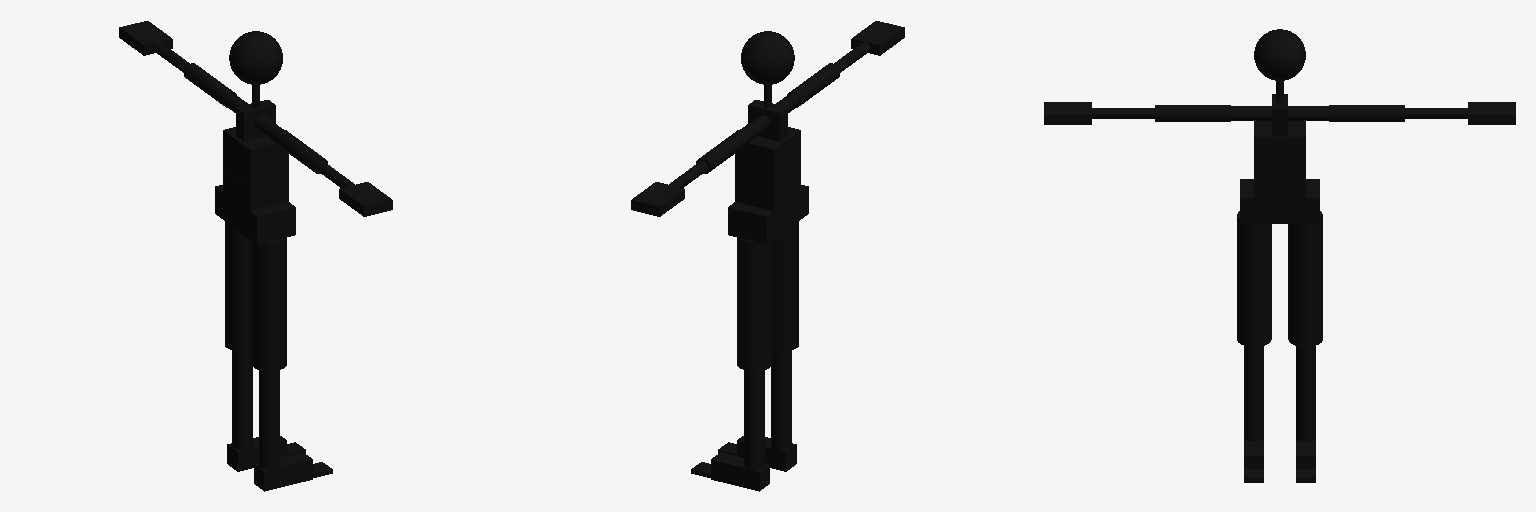
--- Facts derived from the render (not from the file) ---
Views: 3 orthographic renders of the robot side by side, from view 1: azimuth 30°, elevation 25°; view 2: azimuth 150°, elevation 25°; view 3: azimuth 270°, elevation 25°.
Model XSensStyleModel_template with 51 links and 50 joints (48 revolute, 2 fixed), rooted at Pelvis, posed every joint at zero.
Links seen in each view (by area): view 1: RightUpperLeg, LeftUpperLeg, Pelvis, Head, RightLowerLeg, LeftLowerLeg, T12, RightFoot, L5, L3, RightHand, LeftHand (+4 smaller); view 2: LeftUpperLeg, RightUpperLeg, Pelvis, Head, LeftLowerLeg, RightLowerLeg, T12, LeftFoot, L5, L3, LeftHand, RightHand (+4 smaller); view 3: RightUpperLeg, LeftUpperLeg, Pelvis, Head, RightLowerLeg, LeftLowerLeg, T12, RightUpperArm, LeftUpperArm, RightHand, LeftHand, L5 (+8 smaller).
Boxes of the visible links, <box> form: RightUpperLeg: <box>251,238,286,370</box>; LeftUpperLeg: <box>225,222,250,351</box>; Pelvis: <box>215,185,295,244</box>; Head: <box>229,31,282,84</box>; RightLowerLeg: <box>259,370,279,469</box>; LeftLowerLeg: <box>232,351,252,449</box>; T12: <box>223,127,288,168</box>; RightFoot: <box>254,452,312,491</box>; L5: <box>223,170,288,210</box>; L3: <box>223,150,288,188</box>; RightHand: <box>339,182,392,216</box>; LeftHand: <box>119,21,172,55</box>; LeftUpperLeg: <box>737,238,772,370</box>; RightUpperLeg: <box>773,222,798,351</box>; Pelvis: <box>728,185,808,244</box>; Head: <box>741,31,794,84</box>; LeftLowerLeg: <box>744,370,764,469</box>; RightLowerLeg: <box>771,351,791,449</box>; T12: <box>735,127,800,168</box>; LeftFoot: <box>711,452,769,491</box>; L5: <box>735,170,800,210</box>; L3: <box>735,150,800,188</box>; LeftHand: <box>631,182,684,216</box>; RightHand: <box>851,21,904,55</box>; RightUpperLeg: <box>1237,211,1271,346</box>; LeftUpperLeg: <box>1288,211,1322,346</box>; Pelvis: <box>1240,179,1319,223</box>; Head: <box>1254,29,1305,80</box>; RightLowerLeg: <box>1244,346,1263,441</box>; LeftLowerLeg: <box>1296,346,1315,441</box>; T12: <box>1254,121,1305,156</box>; RightUpperArm: <box>1155,105,1230,121</box>; LeftUpperArm: <box>1329,105,1404,121</box>; RightHand: <box>1044,102,1091,124</box>; LeftHand: <box>1468,102,1515,124</box>; L5: <box>1254,177,1305,197</box>.
Bounding box of the posed robot: 0.346 × 1.8 × 1.8 m (x, y, z).
Geometry: primitives only (box / cylinder / sphere), no mesh files.

URDF robot description (XSensStyleModel_template):
<!--URDF MODEL 48 DoFs-->

<robot name="XSensStyleModel_template">

<material name="color">
    <color rgba="0.1 0.1 0.1 1"/>
</material>

<!--To open this model with Gazebo replace the null masses, inertias and dimensions of the 'fake links f1 and f2'-->
    <!--LINKS-->
	<!--Link base (1)-->
	<link name="Pelvis">
        <inertial>
            <mass value="5.696"/>
			<!--COM origin wrt pHipOrigin-->
            <origin xyz="0           0    0.059167" rpy="0 0 0" />
            <inertia ixx="0.050919" iyy="0.019195" izz="0.058056" ixy="0" ixz="0" iyz="0"/>
        </inertial>

        <visual>
			<!--box origin wrt pHipOrigin-->
            <origin xyz="0           0    0.059167" rpy="0 0 0" />
            <geometry>
                <box size="0.16655     0.30753      0.1127"/>
            </geometry>
            <material name="color"/>
        </visual>

        <collision>
			<!--box origin wrt pHipOrigin-->
            <origin xyz="0           0    0.059167" rpy="0 0 0" />
            <geometry>
                <box size="0.16655     0.30753      0.1127"/>
            </geometry>
        </collision>

    </link>
    <!--Chain from (2) to (7)-->
	<link name="L5_f1">
        <inertial>
            <mass value="0"/>
            <origin xyz="0 0 0" rpy="0 0 0" />
            <inertia ixx="0" iyy="0" izz="0" ixy="0" ixz="0" iyz="0"/>
        </inertial>
    </link>
	<link name="L5">
        <inertial>
            <mass value="7.2624"/>
			<!--COM origin wrt jL5S1-->
            <origin xyz="0           0    0.044881" rpy="0 0 0" />
            <inertia ixx="0.02831" iyy="0.021663" izz="0.040221" ixy="0" ixz="0" iyz="0"/>
        </inertial>

        <visual>
			<!--box origin origin wrt jL5S1-->
            <origin xyz="0           0    0.044881" rpy="0 0 0" />
            <geometry>
                <box size="0.16655     0.19678    0.089762"/>
            </geometry>
            <material name="color"/>
        </visual>

        <collision>
			<!--box origin origin wrt jL5S1-->
            <origin xyz="0           0    0.044881" rpy="0 0 0" />
            <geometry>
                <box size="0.16655     0.19678    0.089762"/>
            </geometry>
        </collision>
    </link>
	<link name="L3_f1">
        <inertial>
            <mass value="0"/>
            <origin xyz="0 0 0" rpy="0 0 0" />
            <inertia ixx="0" iyy="0" izz="0" ixy="0" ixz="0" iyz="0"/>
        </inertial>
    </link>
	<link name="L3">
        <inertial>
            <mass value="7.2624"/>
			<!--COM origin wrt jL4L3-->
            <origin xyz="0           0    0.040536" rpy="0 0 0" />
            <inertia ixx="0.027412" iyy="0.020764" izz="0.040221" ixy="0" ixz="0" iyz="0"/>
        </inertial>

        <visual>
			<!--box origin origin wrt jL4L3-->
            <origin xyz="0           0    0.040536" rpy="0 0 0" />
            <geometry>
                <box size="0.16655     0.19678    0.081071"/>
            </geometry>
            <material name="color"/>
        </visual>

        <collision>
			<!--box origin origin wrt jL4L3-->
            <origin xyz="0           0    0.040536" rpy="0 0 0" />
            <geometry>
                <box size="0.16655     0.19678    0.081071"/>
            </geometry>
        </collision>
    </link>
	<link name="T12_f1">
        <inertial>
            <mass value="0"/>
            <origin xyz="0 0 0" rpy="0 0 0" />
            <inertia ixx="0" iyy="0" izz="0" ixy="0" ixz="0" iyz="0"/>
        </inertial>
    </link>
	<link name="T12">
        <inertial>
            <mass value="7.2624"/>
			<!--COM origin wrt jL1T12-->
            <origin xyz="0           0    0.040536" rpy="0 0 0" />
            <inertia ixx="0.027412" iyy="0.020764" izz="0.040221" ixy="0" ixz="0" iyz="0"/>
        </inertial>

        <visual>
			<!--box origin origin wrt jL1T12-->
            <origin xyz="0           0    0.040536" rpy="0 0 0" />
            <geometry>
                <box size="0.16655     0.19678    0.081071"/>
            </geometry>
            <material name="color"/>
        </visual>

        <collision>
			<!--box origin origin wrt jL1T12-->
            <origin xyz="0           0    0.040536" rpy="0 0 0" />
            <geometry>
                <box size="0.16655     0.19678    0.081071"/>
            </geometry>
        </collision>
    </link>
	<link name="T8_f1">
        <inertial>
            <mass value="0"/>
            <origin xyz="0 0 0" rpy="0 0 0" />
            <inertia ixx="0" iyy="0" izz="0" ixy="0" ixz="0" iyz="0"/>
        </inertial>
    </link>
	<link name="T8_f2">
        <inertial>
            <mass value="0"/>
            <origin xyz="0 0 0" rpy="0 0 0" />
            <inertia ixx="0" iyy="0" izz="0" ixy="0" ixz="0" iyz="0"/>
        </inertial>
    </link>
	<link name="T8">
        <inertial>
            <mass value="2.848"/>
			<!--COM origin wrt jT9T8-->
            <origin xyz="0           0    0.058058" rpy="0 0 0" />
            <inertia ixx="0.0040381" iyy="0.0077541" izz="0.0053923" ixy="0" ixz="0" iyz="0"/>
        </inertial>

        <visual>
			<!--box origin wrt jT9T8-->
            <origin xyz="0           0    0.058058" rpy="0 0 0" />
            <geometry>
                <box size="0.13852    0.059426     0.11612"/>
            </geometry>
            <material name="color"/>
        </visual>

        <collision>
			<!--box origin wrt jT9T8-->
            <origin xyz="0           0    0.058058" rpy="0 0 0" />
            <geometry>
                <box size="0.13852    0.059426     0.11612"/>
            </geometry>
        </collision>

    </link>
	<link name="Neck_f1">
        <inertial>
            <mass value="0"/>
            <origin xyz="0 0 0" rpy="0 0 0" />
            <inertia ixx="0" iyy="0" izz="0" ixy="0" ixz="0" iyz="0"/>
        </inertial>
    </link>
	<link name="Neck_f2">
        <inertial>
            <mass value="0"/>
            <origin xyz="0 0 0" rpy="0 0 0" />
            <inertia ixx="0" iyy="0" izz="0" ixy="0" ixz="0" iyz="0"/>
        </inertial>
    </link>
	<link name="Neck">
        <inertial>
            <mass value="0.8544"/>
			<!--COM origin wrt jT1C7-->
            <origin xyz="0           0    0.048176" rpy="0 0 0" />
            <inertia ixx="0.00086442" iyy="0.00086442" izz="0.00040681" ixy="0" ixz="0" iyz="0"/>
        </inertial>

        <visual>
			<!--box origin wrt jT1C7-->
            <origin xyz="0           0    0.048176" rpy="0 0 0" />
            <geometry>
		<cylinder length="0.096353" radius="0.01543"/>
            </geometry>
            <material name="color"/>
        </visual>

        <collision>
			<!--box origin wrt jT1C7-->
            <origin xyz="0           0    0.048176" rpy="0 0 0" />
            <geometry>
                <cylinder length="0.096353" radius="0.01543"/>
            </geometry>
        </collision>
    </link>
	<link name="Head_f1">
        <inertial>
            <mass value="0"/>
            <origin xyz="0 0 0" rpy="0 0 0" />
            <inertia ixx="0" iyy="0" izz="0" ixy="0" ixz="0" iyz="0"/>
        </inertial>
    </link>
	<link name="Head">
        <inertial>
            <mass value="2.5632"/>
			<!--COM origin wrt jC1Head-->
            <origin xyz="0           0    0.099452" rpy="0 0 0" />
            <inertia ixx="0.010141" iyy="0.010141" izz="0.010141" ixy="0" ixz="0" iyz="0"/>
        </inertial>

        <visual>
			<!--boc origin wrt jC1Head-->
            <origin xyz="0           0    0.099452" rpy="0 0 0" />
            <geometry>
                <sphere radius="0.099452"/>
            </geometry>
            <material name="color"/>
        </visual>

        <collision>
			<!--box origin wrt jC1Head-->
            <origin xyz="0           0    0.099452" rpy="0 0 0" />
            <geometry>
                <sphere radius="0.099452"/>
            </geometry>
        </collision>

    </link>
	<!--Chain from (8) to (11)-->
	<link name="RightShoulder">
        <inertial>
            <mass value="2.2072"/>
			<!--COM origin wrt jRightC7Shoulder-->
            <origin xyz="0   -0.078854           0" rpy="0 0 0" />
            <inertia ixx="0.0050082" iyy="0.00086686" izz="0.0050082" ixy="0" ixz="0" iyz="0"/>
        </inertial>

        <visual>
			<!--box origin wrt jRightC7Shoulder. RPY rotated of pi/2.-->
            <origin xyz="0   -0.078854           0" rpy="1.5708 0 0" />
            <geometry>
                <cylinder length="0.15771" radius="0.028026"/>
            </geometry>
            <material name="color"/>
        </visual>

        <collision>
			<!--box origin wrt jRightC7Shoulder. RPY rotated of pi/2.-->
            <origin xyz="0   -0.078854           0" rpy="1.5708 0 0" />
            <geometry>
                <cylinder length="0.15771" radius="0.028026"/>
            </geometry>
        </collision>

    </link>
	<link name="RightUpperArm_f1">
        <inertial>
            <mass value="0"/>
            <origin xyz="0 0 0" rpy="0 0 0" />
            <inertia ixx="0" iyy="0" izz="0" ixy="0" ixz="0" iyz="0"/>
        </inertial>
    </link>
	<link name="RightUpperArm_f2">
        <inertial>
            <mass value="0"/>
            <origin xyz="0 0 0" rpy="0 0 0" />
            <inertia ixx="0" iyy="0" izz="0" ixy="0" ixz="0" iyz="0"/>
        </inertial>
    </link>
    <link name="RightUpperArm">
        <inertial>
            <mass value="2.136"/>
			<!--COM origin wrt jRightShoulder-->
            <origin xyz="0    -0.14573           0" rpy="0 0 0" />
            <inertia ixx="0.015663" iyy="0.0010831" izz="0.015663" ixy="0" ixz="0" iyz="0"/>
        </inertial>

        <visual>
			<!--box origin wrt jRightShoulder. RPY rotated of pi/2.-->
            <origin xyz="0    -0.14573           0" rpy="1.5708 0 0" />
            <geometry>
                <cylinder length="0.29147" radius="0.031846"/>
            </geometry>
            <material name="color"/>
        </visual>

        <collision>
			<!--box origin wrt jRightShoulder. RPY rotated of pi/2.-->
            <origin xyz="0    -0.14573           0" rpy="1.5708 0 0" />
            <geometry>
                <cylinder length="0.29147" radius="0.031846"/>
            </geometry>
        </collision>

    </link>
	<link name="RightForeArm_f1">
        <inertial>
            <mass value="0"/>
            <origin xyz="0 0 0" rpy="0 0 0" />
            <inertia ixx="0" iyy="0" izz="0" ixy="0" ixz="0" iyz="0"/>
        </inertial>
    </link>
	<link name="RightForeArm">
        <inertial>
            <mass value="1.424"/>
			<!--COM origin wrt jRightElbow-->
            <origin xyz="0    -0.12047           0" rpy="0 0 0" />
            <inertia ixx="0.0070493" iyy="0.00032093" izz="0.0070493" ixy="0" ixz="0" iyz="0"/>
        </inertial>

        <visual>
			<!--box origin wrt jRightElbow. RPY rotated of pi/2.-->
            <origin xyz="0    -0.12047           0" rpy="1.5708 0 0" />
            <geometry>
                <cylinder length="0.24094" radius="0.021231"/>
            </geometry>
            <material name="color"/>
        </visual>

        <collision>
			<!--box origin wrt jRightElbow. RPY rotated of pi/2.-->
            <origin xyz="0    -0.12047           0" rpy="1.5708 0 0" />
            <geometry>
                <cylinder length="0.24094" radius="0.021231"/>
            </geometry>
        </collision>

    </link>
	<link name="RightHand_f1">
        <inertial>
            <mass value="0"/>
            <origin xyz="0 0 0" rpy="0 0 0" />
            <inertia ixx="0" iyy="0" izz="0" ixy="0" ixz="0" iyz="0"/>
        </inertial>
    </link>
	<link name="RightHand">
        <inertial>
            <mass value="0.4272"/>
			<!--COM origin wrt jRightWrist-->
            <origin xyz="0   -0.090968           0" rpy="0 0 0" />
            <inertia ixx="0.0012426" iyy="0.00058792" izz="0.0017021" ixy="0" ixz="0" iyz="0"/>
        </inertial>

        <visual>
			<!--box origin wrt jRightWrist-->
            <origin xyz="0   -0.090968           0" rpy="0 0 0" />
            <geometry>
                <box size="0.12129     0.18194    0.042461"/>
            </geometry>
            <material name="color"/>
        </visual>

        <collision>
			<!--box origin wrt jRightWrist-->
            <origin xyz="0   -0.090968           0" rpy="0 0 0" />
            <geometry>
                <box size="0.12129     0.18194    0.042461"/>
            </geometry>
        </collision>

    </link>
    <link name="RightHandCOM">
        <inertial>
            <mass value="0.00001"/>
            <origin xyz="0 0 0" rpy="0 0 0" />
            <inertia ixx="0" iyy="0" izz="0" ixy="0" ixz="0" iyz="0"/>
        </inertial>
        <visual>
            <!--box origin wrt jRightWrist-->
            <origin xyz="0   0           0" rpy="0 0 0" />
            <geometry>
                <box size="0     0    0"/>
            </geometry>
            <material name="color"/>
        </visual>
    </link>
	<!--Chain from (12) to (15)-->
	<link name="LeftShoulder">
        <inertial>
            <mass value="2.2072"/>
			<!--COM origin wrt jLeftC7Shoulder-->
            <origin xyz="0    0.078854           0" rpy="0 0 0" />
            <inertia ixx="0.0050082" iyy="0.00086686" izz="0.0050082" ixy="0" ixz="0" iyz="0"/>
        </inertial>

        <visual>
			<!--box origin wrt jLeftC7Shoulder. RPY rotated of pi/2.-->
            <origin xyz="0    0.078854           0" rpy="1.5708 0 0" />
            <geometry>
                <cylinder length="0.15771" radius="0.028026"/>
            </geometry>
            <material name="color"/>
        </visual>

        <collision>
			<!--box origin wrt jLeftC7Shoulder. RPY rotated of pi/2.-->
            <origin xyz="0    0.078854           0" rpy="1.5708 0 0" />
            <geometry>
                <cylinder length="0.15771" radius="0.028026"/>
            </geometry>
        </collision>

    </link>
	<link name="LeftUpperArm_f1">
        <inertial>
            <mass value="0"/>
            <origin xyz="0 0 0" rpy="0 0 0" />
            <inertia ixx="0" iyy="0" izz="0" ixy="0" ixz="0" iyz="0"/>
        </inertial>
    </link>
	<link name="LeftUpperArm_f2">
        <inertial>
            <mass value="0"/>
            <origin xyz="0 0 0" rpy="0 0 0" />
            <inertia ixx="0" iyy="0" izz="0" ixy="0" ixz="0" iyz="0"/>
        </inertial>
    </link>
	<link name="LeftUpperArm">
        <inertial>
            <mass value="2.136"/>
			<!--COM origin wrt jLeftShoulder-->
            <origin xyz="0     0.14573           0" rpy="0 0 0" />
            <inertia ixx="0.015663" iyy="0.0010831" izz="0.015663" ixy="0" ixz="0" iyz="0"/>
        </inertial>

        <visual>
			<!--box origin wrt jLeftShoulder. RPY rotated of pi/2.-->
            <origin xyz="0     0.14573           0" rpy="1.5708 0 0" />
            <geometry>
                <cylinder length="0.29147" radius="0.031846"/>
            </geometry>
            <material name="color"/>
        </visual>

        <collision>
			<!--box origin wrt jLeftShoulder. RPY rotated of pi/2.-->
            <origin xyz="0     0.14573           0" rpy="1.5708 0 0" />
            <geometry>
                <cylinder length="0.29147" radius="0.031846"/>
            </geometry>
        </collision>

    </link>
	<link name="LeftForeArm_f1">
        <inertial>
            <mass value="0"/>
            <origin xyz="0 0 0" rpy="0 0 0" />
            <inertia ixx="0" iyy="0" izz="0" ixy="0" ixz="0" iyz="0"/>
        </inertial>
    </link>
	<link name="LeftForeArm">
        <inertial>
            <mass value="1.424"/>
			<!--COM origin wrt jLeftElbow-->
            <origin xyz="0     0.12047           0" rpy="0 0 0" />
            <inertia ixx="0.0070493" iyy="0.00032093" izz="0.0070493" ixy="0" ixz="0" iyz="0"/>
        </inertial>

        <visual>
			<!--box origin wrt jLeftElbow. RPY rotated of pi/2.-->
            <origin xyz="0     0.12047           0" rpy="1.5708 0 0" />
            <geometry>
                <cylinder length="0.24094" radius="0.021231"/>
            </geometry>
            <material name="color"/>
        </visual>

        <collision>
			<!--box origin wrt jLeftElbow. RPY rotated of pi/2.-->
            <origin xyz="0     0.12047           0" rpy="1.5708 0 0" />
            <geometry>
                <cylinder length="0.24094" radius="0.021231"/>
            </geometry>
        </collision>

    </link>
	<link name="LeftHand_f1">
        <inertial>
            <mass value="0"/>
            <origin xyz="0 0 0" rpy="0 0 0" />
            <inertia ixx="0" iyy="0" izz="0" ixy="0" ixz="0" iyz="0"/>
        </inertial>
    </link>
	<link name="LeftHand">
        <inertial>
            <mass value="0.4272"/>
			<!--COM origin wrt jLeftWrist-->
            <origin xyz="0    0.090968           0" rpy="0 0 0" />
            <inertia ixx="0.0012426" iyy="0.00058792" izz="0.0017021" ixy="0" ixz="0" iyz="0"/>
        </inertial>

        <visual>
			<!--COM origin wrt jLeftWrist-->
            <origin xyz="0    0.090968           0" rpy="0 0 0" />
            <geometry>
                <box size="0.12129     0.18194    0.042461"/>
            </geometry>
            <material name="color"/>
        </visual>

        <collision>
			<!--COM origin wrt jLeftWrist-->
            <origin xyz="0    0.090968           0" rpy="0 0 0" />
            <geometry>
                <box size="0.12129     0.18194    0.042461"/>
            </geometry>
        </collision>

    </link>
    <link name="LeftHandCOM">
        <inertial>
            <mass value="0.00001"/>
            <origin xyz="0 0 0" rpy="0 0 0" />
            <inertia ixx="0" iyy="0" izz="0" ixy="0" ixz="0" iyz="0"/>
        </inertial>
        <visual>
            <!--COM origin wrt jLeftWrist-->
            <origin xyz="0    0           0" rpy="0 0 0" />
            <geometry>
                <box size="0     0    0"/>
            </geometry>
            <material name="color"/>
        </visual>
    </link>
	<!--Chain from (16) to (19)-->
	<link name="RightUpperLeg_f1">
        <inertial>
            <mass value="0"/>
            <origin xyz="0 0 0" rpy="0 0 0" />
            <inertia ixx="0" iyy="0" izz="0" ixy="0" ixz="0" iyz="0"/>
        </inertial>
    </link>
	<link name="RightUpperLeg_f2">
        <inertial>
            <mass value="0"/>
            <origin xyz="0 0 0" rpy="0 0 0" />
            <inertia ixx="0" iyy="0" izz="0" ixy="0" ixz="0" iyz="0"/>
        </inertial>
    </link>
    <link name="RightUpperLeg">
        <inertial>
            <mass value="8.9"/>
			<!--COM origin wrt jRightHip-->
            <origin xyz="0           0    -0.26304" rpy="0 0 0" />
            <inertia ixx="0.21503" iyy="0.21503" izz="0.019525" ixy="0" ixz="0" iyz="0"/>
        </inertial>

        <visual>
			<!--box origin wrt jRightHip-->
            <origin xyz="0           0    -0.26304" rpy="0 0 0" />
            <geometry>
                <cylinder length="0.52609" radius="0.066238"/>
            </geometry>
            <material name="color"/>
        </visual>

        <collision>
			<!--box origin wrt jRightHip-->
            <origin xyz="0           0    -0.26304" rpy="0 0 0" />
            <geometry>
                <cylinder length="0.52609" radius="0.066238"/>
            </geometry>
        </collision>

    </link>
	<link name="RightLowerLeg_f1">
        <inertial>
            <mass value="0"/>
            <origin xyz="0 0 0" rpy="0 0 0" />
            <inertia ixx="0" iyy="0" izz="0" ixy="0" ixz="0" iyz="0"/>
        </inertial>
    </link>
    <link name="RightLowerLeg">
        <inertial>
            <mass value="2.5988"/>
			<!--COM origin wrt jRightKnee-->
            <origin xyz="0           0    -0.20614" rpy="0 0 0" />
            <inertia ixx="0.037755" iyy="0.037755" izz="0.0018892" ixy="0" ixz="0" iyz="0"/>
        </inertial>

        <visual>
			<!--box origin wrt jRightKnee-->
            <origin xyz="0           0    -0.20614" rpy="0 0 0" />
            <geometry>
                <cylinder length="0.41228" radius="0.03813"/>
            </geometry>
            <material name="color"/>
        </visual>

        <collision>
			<!--box origin wrt jRightKnee-->
            <origin xyz="0           0    -0.20614" rpy="0 0 0" />
            <geometry>
                <cylinder length="0.41228" radius="0.03813"/>
            </geometry>
        </collision>

    </link>
	<link name="RightFoot_f1">
        <inertial>
            <mass value="0"/>
            <origin xyz="0 0 0" rpy="0 0 0" />
            <inertia ixx="0" iyy="0" izz="0" ixy="0" ixz="0" iyz="0"/>
        </inertial>
    </link>
	<link name="RightFoot_f2">
        <inertial>
            <mass value="0"/>
            <origin xyz="0 0 0" rpy="0 0 0" />
            <inertia ixx="0" iyy="0" izz="0" ixy="0" ixz="0" iyz="0"/>
        </inertial>
    </link>
    <link name="RightFoot">
        <inertial>
            <mass value="0.9256"/>
			<!--COM origin wrt jRightAnkle-->
            <origin xyz="0.061581           0   -0.040628" rpy="0 0 0" />
            <inertia ixx="0.00095786" iyy="0.0038434" izz="0.0037827" ixy="0" ixz="0" iyz="0"/>
        </inertial>

        <visual>
			<!--box origin wrt jRightAnkle-->
	    	<origin xyz="0.061581           0   -0.040628" rpy="0 0 0" />
            <geometry>
                <box size="0.20791     0.07626    0.081257"/>
            </geometry>
            <material name="color"/>
        </visual>

        <collision>
			<!--box origin wrt jRightAnkle-->
		    <origin xyz="0.061581           0   -0.040628" rpy="0 0 0" />
	            <geometry>
	                <box size="0.20791     0.07626    0.081257"/>
	            </geometry>
        </collision>

    </link>
    <link name="RightToe">
        <inertial>
            <mass value="0.1068"/>
			<!--COM origin wrt jRightBallFoot-->
            <origin xyz="0.041044           0           0" rpy="0 0 0" />
            <inertia ixx="5.4675e-05" iyy="6.289e-05" izz="0.00011173" ixy="0" ixz="0" iyz="0"/>
        </inertial>

        <visual>
			<!--box origin wrt jRightBallFoot-->
            <origin xyz="0.041044           0           0" rpy="0 0 0" />
            <geometry>
                <box size="0.082089     0.07626    0.018102"/>
            </geometry>
            <material name="color"/>
        </visual>

        <collision>
			<!--box origin wrt jRightBallFoot-->
            <origin xyz="0.041044           0           0" rpy="0 0 0" />
            <geometry>
                <box size="0.082089     0.07626    0.018102"/>
            </geometry>
        </collision>
    </link>
	<!--Chain from (20) to (23)-->
	<link name="LeftUpperLeg_f1">
        <inertial>
            <mass value="0"/>
            <origin xyz="0 0 0" rpy="0 0 0" />
            <inertia ixx="0" iyy="0" izz="0" ixy="0" ixz="0" iyz="0"/>
        </inertial>
    </link>
	<link name="LeftUpperLeg_f2">
        <inertial>
            <mass value="0"/>
            <origin xyz="0 0 0" rpy="0 0 0" />
            <inertia ixx="0" iyy="0" izz="0" ixy="0" ixz="0" iyz="0"/>
        </inertial>
    </link>
    <link name="LeftUpperLeg">
        <inertial>
            <mass value="8.9"/>
			<!--COM origin wrt jLeftHip-->
            <origin xyz="0           0    -0.26304" rpy="0 0 0" />
            <inertia ixx="0.21503" iyy="0.21503" izz="0.019525" ixy="0" ixz="0" iyz="0"/>
        </inertial>

        <visual>
			<!--box origin wrt jLeftHip-->
            <origin xyz="0           0    -0.26304" rpy="0 0 0" />
            <geometry>
                <cylinder length="0.52609" radius="0.066238"/>
            </geometry>
            <material name="color"/>
        </visual>

        <collision>
			<!--box origin wrt jLeftHip-->
            <origin xyz="0           0    -0.26304" rpy="0 0 0" />
            <geometry>
                <cylinder length="0.52609" radius="0.066238"/>
            </geometry>
        </collision>

    </link>
	<link name="LeftLowerLeg_f1">
        <inertial>
            <mass value="0"/>
            <origin xyz="0 0 0" rpy="0 0 0" />
            <inertia ixx="0" iyy="0" izz="0" ixy="0" ixz="0" iyz="0"/>
        </inertial>
    </link>
	<link name="LeftLowerLeg">
        <inertial>
            <mass value="2.5988"/>
			<!--COM origin wrt jLeftKnee-->
            <origin xyz="0           0    -0.20614" rpy="0 0 0" />
            <inertia ixx="0.037755" iyy="0.037755" izz="0.0018892" ixy="0" ixz="0" iyz="0"/>
        </inertial>

        <visual>
			<!--box origin wrt jLeftKnee-->
            <origin xyz="0           0    -0.20614" rpy="0 0 0" />
            <geometry>
		<cylinder length="0.41228" radius="0.03813"/>
            </geometry>
            <material name="color"/>
        </visual>

        <collision>
			<!--box origin wrt jLeftKnee-->
            <origin xyz="0           0    -0.20614" rpy="0 0 0" />
            <geometry>
		<cylinder length="0.41228" radius="0.03813"/>
            </geometry>
        </collision>

    </link>
	<link name="LeftFoot_f1">
        <inertial>
            <mass value="0"/>
            <origin xyz="0 0 0" rpy="0 0 0" />
            <inertia ixx="0" iyy="0" izz="0" ixy="0" ixz="0" iyz="0"/>
        </inertial>
    </link>
	<link name="LeftFoot_f2">
        <inertial>
            <mass value="0"/>
            <origin xyz="0 0 0" rpy="0 0 0" />
            <inertia ixx="0" iyy="0" izz="0" ixy="0" ixz="0" iyz="0"/>
        </inertial>
    </link>
    <link name="LeftFoot">
        <inertial>
            <mass value="0.9256"/>
			<!--COM origin wrt jLeftAnkle-->
            <origin xyz="0.061581           0   -0.040628" rpy="0 0 0" />
            <inertia ixx="0.00095786" iyy="0.0038434" izz="0.0037827" ixy="0" ixz="0" iyz="0"/>
        </inertial>

        <visual>
			<!--box origin wrt jLeftAnkle-->
	   	 	<origin xyz="0.061581           0   -0.040628" rpy="0 0 0" />
            <geometry>
                <box size="0.20791     0.07626    0.081257"/>
            </geometry>
            <material name="color"/>
        </visual>

        <collision>
			<!--box origin wrt jLeftAnkle-->
		    <origin xyz="0.061581           0   -0.040628" rpy="0 0 0" />
	            <geometry>
	                <box size="0.20791     0.07626    0.081257"/>
	            </geometry>
        </collision>

    </link>
	<link name="LeftToe">
        <inertial>
            <mass value="0.1068"/>
			<!--COM origin wrt jLeftBallFoot-->
            <origin xyz="0.041044           0           0" rpy="0 0 0" />
            <inertia ixx="5.4675e-05" iyy="6.289e-05" izz="0.00011173" ixy="0" ixz="0" iyz="0"/>
        </inertial>

        <visual>
			<!--box origin wrt jLeftBallFoot-->
            <origin xyz="0.041044           0           0" rpy="0 0 0" />
            <geometry>
                <box size="0.082089     0.07626    0.018102"/>
            </geometry>
            <material name="color"/>
        </visual>

        <collision>
			<!--box origin wrt jLeftBallFoot-->
            <origin xyz="0.041044           0           0" rpy="0 0 0" />
            <geometry>
                <box size="0.082089     0.07626    0.018102"/>
            </geometry>
        </collision>
    </link>


	<!--JOINTS-->
	<!--Chain from (2) to (7)-->
	<joint name="jL5S1_rotx" type="revolute">
        <origin xyz="-0.000575           0     0.11552" rpy="0 0 0"/>
        <parent link="Pelvis"/>
        <child link="L5_f1"/>
        <dynamics damping="0.1" friction="0.0"/>
        <limit effort="30" velocity="1.0" lower="-0.610865" upper="0.610865" />
        <axis xyz="1 0 0" />
    </joint>
	<joint name="jL5S1_roty" type="revolute">
        <origin xyz="0 0 0" rpy="0 0 0"/>
        <parent link="L5_f1"/>
        <child link="L5"/>
        <dynamics damping="0.1" friction="0.0"/>
        <limit effort="30" velocity="1.0" lower="-0.523599" upper="1.309" />
        <axis xyz="0 1 0" />
    </joint>
	<joint name="jL4L3_rotx" type="revolute">
        <origin xyz="0.001044           0    0.089762" rpy="0 0 0"/>
        <parent link="L5"/>
        <child link="L3_f1"/>
        <dynamics damping="0.1" friction="0.0"/>
        <limit effort="30" velocity="1.0" lower="-0.610865" upper="0.610865" />
        <axis xyz="1 0 0" />
    </joint>
	<joint name="jL4L3_roty" type="revolute">
        <origin xyz="0 0 0" rpy="0 0 0"/>
        <parent link="L3_f1"/>
        <child link="L3"/>
        <dynamics damping="0.1" friction="0.0"/>
        <limit effort="30" velocity="1.0" lower="-0.523599" upper="1.309" />
        <axis xyz="0 1 0" />
    </joint>
	<joint name="jL1T12_rotx" type="revolute">
        <origin xyz="0           0    0.081071" rpy="0 0 0"/>
        <parent link="L3"/>
        <child link="T12_f1"/>
        <dynamics damping="0.1" friction="0.0"/>
        <limit effort="30" velocity="1.0" lower="-0.610865" upper="0.610865" />
        <axis xyz="1 0 0" />
    </joint>
	<joint name="jL1T12_roty" type="revolute">
        <origin xyz="0 0 0" rpy="0 0 0"/>
        <parent link="T12_f1"/>
        <child link="T12"/>
        <dynamics damping="0.1" friction="0.0"/>
        <limit effort="30" velocity="1.0" lower="-0.523599" upper="1.309" />
        <axis xyz="0 1 0" />
    </joint>
	<joint name="jT9T8_rotx" type="revolute">
        <origin xyz="0           0    0.081071" rpy="0 0 0"/>
        <parent link="T12"/>
        <child link="T8_f1"/>
        <dynamics damping="0.1" friction="0.0"/>
        <limit effort="30" velocity="1.0" lower="-0.349066" upper="0.349066" />
        <axis xyz="1 0 0" />
    </joint>
	<joint name="jT9T8_roty" type="revolute">
        <origin xyz="0 0 0" rpy="0 0 0"/>
        <parent link="T8_f1"/>
        <child link="T8_f2"/>
        <dynamics damping="0.1" friction="0.0"/>
        <limit effort="30" velocity="1.0" lower="-0.261799" upper="0.698132" />
        <axis xyz="0 1 0" />
    </joint>
    <joint name="jT9T8_rotz" type="revolute">
        <origin xyz="0 0 0" rpy="0 0 0"/>
        <parent link="T8_f2"/>
        <child link="T8"/>
        <dynamics damping="0.1" friction="0.0"/>
        <limit effort="30" velocity="1.0" lower="-0.610865" upper="0.610865" />
        <axis xyz="0 0 1" />
    </joint>
	<joint name="jT1C7_rotx" type="revolute">
        <origin xyz="0           0     0.11612" rpy="0 0 0"/>
        <parent link="T8"/>
        <child link="Neck_f1"/>
        <dynamics damping="0.1" friction="0.0"/>
        <limit effort="30" velocity="1.0" lower="-0.610865" upper="0.610865" />
        <axis xyz="1 0 0" />
    </joint>
	<joint name="jT1C7_roty" type="revolute">
        <origin xyz="0 0 0" rpy="0 0 0"/>
        <parent link="Neck_f1"/>
        <child link="Neck_f2"/>
        <dynamics damping="0.1" friction="0.0"/>
        <limit effort="30" velocity="1.0" lower="-0.959931" upper="1.5708" />
        <axis xyz="0 1 0" />
    </joint>
    <joint name="jT1C7_rotz" type="revolute">
        <origin xyz="0 0 0" rpy="0 0 0"/>
        <parent link="Neck_f2"/>
        <child link="Neck"/>
        <dynamics damping="0.1" friction="0.0"/>
        <limit effort="30" velocity="1.0" lower="-1.22173" upper="1.22173" />
        <axis xyz="0 0 1" />
    </joint>
	<joint name="jC1Head_rotx" type="revolute">
        <origin xyz="0.000829           0    0.096353" rpy="0 0 0"/>
        <parent link="Neck"/>
        <child link="Head_f1"/>
        <dynamics damping="0.1" friction="0.0"/>
        <limit effort="30" velocity="1.0" lower="-0.610865" upper="0.610865" />
        <axis xyz="1 0 0" />
    </joint>
	<joint name="jC1Head_roty" type="revolute">
        <origin xyz="0 0 0" rpy="0 0 0"/>
        <parent link="Head_f1"/>
        <child link="Head"/>
        <dynamics damping="0.1" friction="0.0"/>
        <limit effort="30" velocity="1.0" lower="-0.436332" upper="0.174533" />
        <axis xyz="0 1 0" />
    </joint>
	<!--Chain from (8) to (11)-->
	<joint name="jRightC7Shoulder_rotx" type="revolute">
        <origin xyz="0   -0.029713    0.065446" rpy="0 0 0"/>
        <parent link="T8"/>
        <child link="RightShoulder"/>
        <dynamics damping="0.1" friction="0.0"/>
        <limit effort="30" velocity="1.0" lower="-0.785398" upper="0.0872665" />
        <axis xyz="1 0 0" />
    </joint>
	<joint name="jRightShoulder_rotx" type="revolute">
        <origin xyz="0    -0.15771           0" rpy="0 0 0"/>
        <parent link="RightShoulder"/>
        <child link="RightUpperArm_f1"/>
        <dynamics damping="0.1" friction="0.0"/>
        <limit effort="30" velocity="1.0" lower="-2.35619" upper="1.5708" />
        <axis xyz="1 0 0" />
    </joint>
	<joint name="jRightShoulder_roty" type="revolute">
        <origin xyz="0 0 0" rpy="0 0 0"/>
        <parent link="RightUpperArm_f1"/>
        <child link="RightUpperArm_f2"/>
        <dynamics damping="0.1" friction="0.0"/>
        <limit effort="30" velocity="1.0" lower="-1.5708" upper="1.5708" />
        <axis xyz="0 1 0" />
    </joint>
    <joint name="jRightShoulder_rotz" type="revolute">
        <origin xyz="0 0 0" rpy="0 0 0"/>
        <parent link="RightUpperArm_f2"/>
        <child link="RightUpperArm"/>
        <dynamics damping="0.1" friction="0.0"/>
        <limit effort="30" velocity="1.0" lower="-0.785398" upper="3.14159" />
        <axis xyz="0 0 1" />
    </joint>
	<joint name="jRightElbow_roty" type="revolute">
        <origin xyz="0    -0.29147           0" rpy="0 0 0"/>
        <parent link="RightUpperArm"/>
        <child link="RightForeArm_f1"/>
        <dynamics damping="0.1" friction="0.0"/>
        <limit effort="30" velocity="1.0" lower="-1.5708" upper="1.48353" />
        <axis xyz="0 1 0" />
    </joint>
	<joint name="jRightElbow_rotz" type="revolute">
        <origin xyz="0 0 0" rpy="0 0 0"/>
        <parent link="RightForeArm_f1"/>
        <child link="RightForeArm"/>
        <dynamics damping="0.1" friction="0.0"/>
        <limit effort="30" velocity="1.0" lower="0" upper="2.53073" />
        <axis xyz="0 0 1" />
    </joint>
	<joint name="jRightWrist_rotx" type="revolute">
        <origin xyz="0.000102    -0.24094           0" rpy="0 0 0"/>
        <parent link="RightForeArm"/>
        <child link="RightHand_f1"/>
        <dynamics damping="0.1" friction="0.0"/>
        <limit effort="30" velocity="1.0" lower="-0.872665" upper="1.0472" />
        <axis xyz="1 0 0" />
    </joint>
	<joint name="jRightWrist_rotz" type="revolute">
        <origin xyz="0 0 0" rpy="0 0 0"/>
        <parent link="RightHand_f1"/>
        <child link="RightHand"/>
        <dynamics damping="0.1" friction="0.0"/>
        <limit effort="30" velocity="1.0" lower="-0.523599" upper="0.349066" />
        <axis xyz="0 0 1" />
    </joint>
    <joint name="jRightHandCOM" type="fixed">
        <origin xyz="0 -0.096206 0" rpy="0 0 0"/>
        <parent link="RightHand"/>
        <child link="RightHandCOM"/>
        <axis xyz="0 0 0" />
    </joint>
	<!--Chain from (12) to (15)-->
	<joint name="jLeftC7Shoulder_rotx" type="revolute">
        <origin xyz="0    0.029713    0.065446" rpy="0 0 0"/>
        <parent link="T8"/>
        <child link="LeftShoulder"/>
        <dynamics damping="0.1" friction="0.0"/>
        <limit effort="30" velocity="1.0" lower="-0.0872665" upper="0.785398" />
        <axis xyz="1 0 0" />
    </joint>
	<joint name="jLeftShoulder_rotx" type="revolute">
        <origin xyz="0     0.15771           0" rpy="0 0 0"/>
        <parent link="LeftShoulder"/>
        <child link="LeftUpperArm_f1"/>
        <dynamics damping="0.1" friction="0.0"/>
        <limit effort="30" velocity="1.0" lower="-1.5708" upper="2.35619" />
        <axis xyz="1 0 0" />
    </joint>
	<joint name="jLeftShoulder_roty" type="revolute">
        <origin xyz="0 0 0" rpy="0 0 0"/>
        <parent link="LeftUpperArm_f1"/>
        <child link="LeftUpperArm_f2"/>
        <dynamics damping="0.1" friction="0.0"/>
        <limit effort="30" velocity="1.0" lower="-1.5708" upper="1.5708" />
        <axis xyz="0 1 0" />
    </joint>
    <joint name="jLeftShoulder_rotz" type="revolute">
        <origin xyz="0 0 0" rpy="0 0 0"/>
        <parent link="LeftUpperArm_f2"/>
        <child link="LeftUpperArm"/>
        <dynamics damping="0.1" friction="0.0"/>
        <limit effort="30" velocity="1.0" lower="-3.14159" upper="0.785398" />
        <axis xyz="0 0 1" />
    </joint>
    <joint name="jLeftElbow_roty" type="revolute">
        <origin xyz="0     0.29147           0" rpy="0 0 0"/>
        <parent link="LeftUpperArm"/>
        <child link="LeftForeArm_f1"/>
        <dynamics damping="0.1" friction="0.0"/>
        <limit effort="30" velocity="1.0" lower="-1.5708" upper="1.48353" />
        <axis xyz="0 1 0" />
    </joint>
    <joint name="jLeftElbow_rotz" type="revolute">
        <origin xyz="0 0 0" rpy="0 0 0"/>
        <parent link="LeftForeArm_f1"/>
        <child link="LeftForeArm"/>
        <dynamics damping="0.1" friction="0.0"/>
        <limit effort="30" velocity="1.0" lower="-2.53073" upper="0" />
        <axis xyz="0 0 1" />
    </joint>
	<joint name="jLeftWrist_rotx" type="revolute">
        <origin xyz="0.000102     0.24094           0" rpy="0 0 0"/>
        <parent link="LeftForeArm"/>
        <child link="LeftHand_f1"/>
        <dynamics damping="0.1" friction="0.0"/>
        <limit effort="30" velocity="1.0" lower="-1.0472" upper="0.872665" />
        <axis xyz="1 0 0" />
    </joint>
	<joint name="jLeftWrist_rotz" type="revolute">
        <origin xyz="0 0 0" rpy="0 0 0"/>
        <parent link="LeftHand_f1"/>
        <child link="LeftHand"/>
        <dynamics damping="0.1" friction="0.0"/>
        <limit effort="30" velocity="1.0" lower="-0.349066" upper="0.523599" />
        <axis xyz="0 0 1" />
    </joint>
    <joint name="jLeftHandCOM" type="fixed">
        <origin xyz="0 0.096206 0" rpy="0 0 0"/>
        <parent link="LeftHand"/>
        <child link="LeftHandCOM"/>
        <axis xyz="0 0 0" />
    </joint>
	<!--Chain from (16) to (19)-->
	<joint name="jRightHip_rotx" type="revolute">
        <origin xyz="0.000287   -0.098388    0.002817" rpy="0 0 0"/>
        <parent link="Pelvis"/>
        <child link="RightUpperLeg_f1"/>
        <dynamics damping="0.1" friction="0.0"/>
        <limit effort="30" velocity="1.0" lower="-0.785398" upper="0.523599" />
        <axis xyz="1 0 0" />
    </joint>
	<joint name="jRightHip_roty" type="revolute">
        <origin xyz="0 0 0" rpy="0 0 0"/>
        <parent link="RightUpperLeg_f1"/>
        <child link="RightUpperLeg_f2"/>
        <dynamics damping="0.1" friction="0.0"/>
        <limit effort="30" velocity="1.0" lower="-2.0944" upper="0.261799" />
        <axis xyz="0 1 0" />
    </joint>
    <joint name="jRightHip_rotz" type="revolute">
        <origin xyz="0 0 0" rpy="0 0 0"/>
        <parent link="RightUpperLeg_f2"/>
        <child link="RightUpperLeg"/>
        <dynamics damping="0.1" friction="0.0"/>
        <limit effort="30" velocity="1.0" lower="-0.785398" upper="0.785398" />
        <axis xyz="0 0 1" />
    </joint>
	<joint name="jRightKnee_roty" type="revolute">
        <origin xyz="3e-05           0    -0.52609" rpy="0 0 0"/>
        <parent link="RightUpperLeg"/>
        <child link="RightLowerLeg_f1"/>
        <dynamics damping="0.1" friction="0.0"/>
        <limit effort="30" velocity="1.0" lower="0" upper="2.35619" />
        <axis xyz="0 1 0" />
    </joint>
	<joint name="jRightKnee_rotz" type="revolute">
        <origin xyz="0 0 0" rpy="0 0 0"/>
        <parent link="RightLowerLeg_f1"/>
        <child link="RightLowerLeg"/>
        <dynamics damping="0.1" friction="0.0"/>
        <limit effort="30" velocity="1.0" lower="-0.698132" upper="0.523599" />
        <axis xyz="0 0 1" />
    </joint>
	<joint name="jRightAnkle_rotx" type="revolute">
        <origin xyz="-0.0001           0    -0.41228" rpy="0 0 0"/>
        <parent link="RightLowerLeg"/>
        <child link="RightFoot_f1"/>
        <dynamics damping="0.1" friction="0.0"/>
        <limit effort="30" velocity="1.0" lower="-0.610865" upper="0.785398" />
        <axis xyz="1 0 0" />
    </joint>
	<joint name="jRightAnkle_roty" type="revolute">
        <origin xyz="0 0 0" rpy="0 0 0"/>
        <parent link="RightFoot_f1"/>
        <child link="RightFoot_f2"/>
        <dynamics damping="0.1" friction="0.0"/>
        <limit effort="30" velocity="1.0" lower="-0.523599" upper="0.872665" />
        <axis xyz="0 1 0" />
    </joint>
    <joint name="jRightAnkle_rotz" type="revolute">
        <origin xyz="0 0 0" rpy="0 0 0"/>
        <parent link="RightFoot_f2"/>
        <child link="RightFoot"/>
        <dynamics damping="0.1" friction="0.0"/>
        <limit effort="30" velocity="1.0" lower="-0.436332" upper="0.872665" />
        <axis xyz="0 0 1" />
    </joint>
	<joint name="jRightBallFoot_roty" type="revolute">
        <origin xyz="0.16553           0   -0.067444" rpy="0 0 0"/>
        <parent link="RightFoot"/>
        <child link="RightToe"/>
        <dynamics damping="0.1" friction="0.0"/>
        <limit effort="30" velocity="1.0" lower="-0.174533" upper="1.5708" />
        <axis xyz="0 1 0" />
    </joint>
	<!--Chain from (20) to (23)-->
	<joint name="jLeftHip_rotx" type="revolute">
        <origin xyz="0.000287    0.098388    0.002817" rpy="0 0 0"/>
        <parent link="Pelvis"/>
        <child link="LeftUpperLeg_f1"/>
        <dynamics damping="0.1" friction="0.0"/>
        <limit effort="30" velocity="1.0" lower="-0.523599" upper="0.785398" />
        <axis xyz="1 0 0" />
    </joint>
	<joint name="jLeftHip_roty" type="revolute">
        <origin xyz="0 0 0" rpy="0 0 0"/>
        <parent link="LeftUpperLeg_f1"/>
        <child link="LeftUpperLeg_f2"/>
        <dynamics damping="0.1" friction="0.0"/>
        <limit effort="30" velocity="1.0" lower="-2.0944" upper="0.261799" />
        <axis xyz="0 1 0" />
    </joint>
    <joint name="jLeftHip_rotz" type="revolute">
        <origin xyz="0 0 0" rpy="0 0 0"/>
        <parent link="LeftUpperLeg_f2"/>
        <child link="LeftUpperLeg"/>
        <dynamics damping="0.1" friction="0.0"/>
        <limit effort="30" velocity="1.0" lower="-0.785398" upper="0.785398" />
        <axis xyz="0 0 1" />
    </joint>
	<joint name="jLeftKnee_roty" type="revolute">
        <origin xyz="3e-05           0    -0.52609" rpy="0 0 0"/>
        <parent link="LeftUpperLeg"/>
        <child link="LeftLowerLeg_f1"/>
        <dynamics damping="0.1" friction="0.0"/>
        <limit effort="30" velocity="1.0" lower="0" upper="2.35619" />
        <axis xyz="0 1 0" />
    </joint>
    <joint name="jLeftKnee_rotz" type="revolute">
        <origin xyz="0 0 0" rpy="0 0 0"/>
        <parent link="LeftLowerLeg_f1"/>
        <child link="LeftLowerLeg"/>
        <dynamics damping="0.1" friction="0.0"/>
        <limit effort="30" velocity="1.0" lower="-0.523599" upper="0.698132" />
        <axis xyz="0 0 1" />
    </joint>
	<joint name="jLeftAnkle_rotx" type="revolute">
        <origin xyz="-0.0001           0    -0.41228" rpy="0 0 0"/>
        <parent link="LeftLowerLeg"/>
        <child link="LeftFoot_f1"/>
        <dynamics damping="0.1" friction="0.0"/>
        <limit effort="30" velocity="1.0" lower="-0.785398" upper="0.610865" />
        <axis xyz="1 0 0" />
    </joint>
	<joint name="jLeftAnkle_roty" type="revolute">
        <origin xyz="0 0 0" rpy="0 0 0"/>
        <parent link="LeftFoot_f1"/>
        <child link="LeftFoot_f2"/>
        <dynamics damping="0.1" friction="0.0"/>
        <limit effort="30" velocity="1.0" lower="-0.523599" upper="0.872665" />
        <axis xyz="0 1 0" />
    </joint>
    <joint name="jLeftAnkle_rotz" type="revolute">
        <origin xyz="0 0 0" rpy="0 0 0"/>
        <parent link="LeftFoot_f2"/>
        <child link="LeftFoot"/>
        <dynamics damping="0.1" friction="0.0"/>
        <limit effort="30" velocity="1.0" lower="-0.872665" upper="0.436332" />
        <axis xyz="0 0 1" />
    </joint>
	<joint name="jLeftBallFoot_roty" type="revolute">
        <origin xyz="0.16553           0   -0.067444" rpy="0 0 0"/>
        <parent link="LeftFoot"/>
        <child link="LeftToe"/>
        <dynamics damping="0.1" friction="0.0"/>
        <limit effort="30" velocity="1.0" lower="-0.174533" upper="1.5708" />
        <axis xyz="0 1 0" />
    </joint>

	<!-- Sensor  1-->
<sensor name="Pelvis_gyro" type="gyroscope">
<parent link="Pelvis"/>
<origin xyz="-0.068488 -3.8658e-07     0.11696" rpy="-0.27051      1.3344      2.7093"/>
</sensor>
<sensor name="Pelvis_accelerometer" type="accelerometer">
<parent link="Pelvis"/>
<origin xyz="-0.068488 -3.8658e-07     0.11696" rpy="-0.27051      1.3344      2.7093"/>
</sensor>
<!-- Sensor  2-->
<sensor name="T8_gyro" type="gyroscope">
<parent link="T8"/>
<origin xyz="0.12929  8.9756e-08    0.071108" rpy="0.38721      1.2683     0.24211"/>
</sensor>
<sensor name="T8_accelerometer" type="accelerometer">
<parent link="T8"/>
<origin xyz="0.12929  8.9756e-08    0.071108" rpy="0.38721      1.2683     0.24211"/>
</sensor>
<!-- Sensor  3-->
<sensor name="Head_gyro" type="gyroscope">
<parent link="Head"/>
<origin xyz="-0.077436 -1.1223e-07    0.085116" rpy="-2.4386    -0.21231      1.6195"/>
</sensor>
<sensor name="Head_accelerometer" type="accelerometer">
<parent link="Head"/>
<origin xyz="-0.077436 -1.1223e-07    0.085116" rpy="-2.4386    -0.21231      1.6195"/>
</sensor>
<!-- Sensor  4-->
<sensor name="RightShoulder_gyro" type="gyroscope">
<parent link="RightShoulder"/>
<origin xyz="-0.022421   -0.056053   -0.067264" rpy="1.2409      -0.251     -1.4752"/>
</sensor>
<sensor name="RightShoulder_accelerometer" type="accelerometer">
<parent link="RightShoulder"/>
<origin xyz="-0.022421   -0.056053   -0.067264" rpy="1.2409      -0.251     -1.4752"/>
</sensor>
<!-- Sensor  5-->
<sensor name="RightUpperArm_gyro" type="gyroscope">
<parent link="RightUpperArm"/>
<origin xyz="-0.019597   -0.097988    0.019598" rpy="-0.023852    0.034416     -1.4836"/>
</sensor>
<sensor name="RightUpperArm_accelerometer" type="accelerometer">
<parent link="RightUpperArm"/>
<origin xyz="-0.019597   -0.097988    0.019598" rpy="-0.023852    0.034416     -1.4836"/>
</sensor>
<!-- Sensor  6-->
<sensor name="RightForeArm_gyro" type="gyroscope">
<parent link="RightForeArm"/>
<origin xyz="0.0018228     -0.1988    0.019855" rpy="-0.23839    0.042417      -1.238"/>
</sensor>
<sensor name="RightForeArm_accelerometer" type="accelerometer">
<parent link="RightForeArm"/>
<origin xyz="0.0018228     -0.1988    0.019855" rpy="-0.23839    0.042417      -1.238"/>
</sensor>
<!-- Sensor  7-->
<sensor name="RightHand_gyro" type="gyroscope">
<parent link="RightHand"/>
<origin xyz="3.4392e-08   -0.055431    0.020157" rpy="-0.1235    0.039699     -1.3751"/>
</sensor>
<sensor name="RightHand_accelerometer" type="accelerometer">
<parent link="RightHand"/>
<origin xyz="3.4392e-08   -0.055431    0.020157" rpy="-0.1235    0.039699     -1.3751"/>
</sensor>
<!-- Sensor  8-->
<sensor name="LeftShoulder_gyro" type="gyroscope">
<parent link="LeftShoulder"/>
<origin xyz="-0.022421    0.056053   -0.067264" rpy="-1.3117     -0.3446      1.3956"/>
</sensor>
<sensor name="LeftShoulder_accelerometer" type="accelerometer">
<parent link="LeftShoulder"/>
<origin xyz="-0.022421    0.056053   -0.067264" rpy="-1.3117     -0.3446      1.3956"/>
</sensor>
<!-- Sensor  9-->
<sensor name="LeftUpperArm_gyro" type="gyroscope">
<parent link="LeftUpperArm"/>
<origin xyz="-0.019597    0.097989    0.019598" rpy="0.10179    0.025936      1.4178"/>
</sensor>
<sensor name="LeftUpperArm_accelerometer" type="accelerometer">
<parent link="LeftUpperArm"/>
<origin xyz="-0.019597    0.097989    0.019598" rpy="0.10179    0.025936      1.4178"/>
</sensor>
<!-- Sensor  10-->
<sensor name="LeftForeArm_gyro" type="gyroscope">
<parent link="LeftForeArm"/>
<origin xyz="0.0018196      0.1988    0.019876" rpy="0.33797   -0.011593      1.2119"/>
</sensor>
<sensor name="LeftForeArm_accelerometer" type="accelerometer">
<parent link="LeftForeArm"/>
<origin xyz="0.0018196      0.1988    0.019876" rpy="0.33797   -0.011593      1.2119"/>
</sensor>
<!-- Sensor  11-->
<sensor name="LeftHand_gyro" type="gyroscope">
<parent link="LeftHand"/>
<origin xyz="1.4957e-06    0.055432    0.020158" rpy="0.20961    0.078707      1.2361"/>
</sensor>
<sensor name="LeftHand_accelerometer" type="accelerometer">
<parent link="LeftHand"/>
<origin xyz="1.4957e-06    0.055432    0.020158" rpy="0.20961    0.078707      1.2361"/>
</sensor>
<!-- Sensor  12-->
<sensor name="RightUpperLeg_gyro" type="gyroscope">
<parent link="RightUpperLeg"/>
<origin xyz="0.015207   -0.053543    -0.31632" rpy="2.7056      1.3522      1.1266"/>
</sensor>
<sensor name="RightUpperLeg_accelerometer" type="accelerometer">
<parent link="RightUpperLeg"/>
<origin xyz="0.015207   -0.053543    -0.31632" rpy="2.7056      1.3522      1.1266"/>
</sensor>
<!-- Sensor  13-->
<sensor name="RightLowerLeg_gyro" type="gyroscope">
<parent link="RightLowerLeg"/>
<origin xyz="0.031416   0.0071913    -0.13516" rpy="-3.0013      1.5099      -2.862"/>
</sensor>
<sensor name="RightLowerLeg_accelerometer" type="accelerometer">
<parent link="RightLowerLeg"/>
<origin xyz="0.031416   0.0071913    -0.13516" rpy="-3.0013      1.5099      -2.862"/>
</sensor>
<!-- Sensor  14-->
<sensor name="RightFoot_gyro" type="gyroscope">
<parent link="RightFoot"/>
<origin xyz="0.094314   0.0015696   -0.013315" rpy="0.19638     0.42312    0.033114"/>
</sensor>
<sensor name="RightFoot_accelerometer" type="accelerometer">
<parent link="RightFoot"/>
<origin xyz="0.094314   0.0015696   -0.013315" rpy="0.19638     0.42312    0.033114"/>
</sensor>
<!-- Sensor  15-->
<sensor name="LeftUpperLeg_gyro" type="gyroscope">
<parent link="LeftUpperLeg"/>
<origin xyz="0.015207    0.053543    -0.31632" rpy="2.7741      1.4429     -1.9595"/>
</sensor>
<sensor name="LeftUpperLeg_accelerometer" type="accelerometer">
<parent link="LeftUpperLeg"/>
<origin xyz="0.015207    0.053543    -0.31632" rpy="2.7741      1.4429     -1.9595"/>
</sensor>
<!-- Sensor  16-->
<sensor name="LeftLowerLeg_gyro" type="gyroscope">
<parent link="LeftLowerLeg"/>
<origin xyz="0.031416  -0.0071914    -0.13516" rpy="2.5557      1.4555      2.3984"/>
</sensor>
<sensor name="LeftLowerLeg_accelerometer" type="accelerometer">
<parent link="LeftLowerLeg"/>
<origin xyz="0.031416  -0.0071914    -0.13516" rpy="2.5557      1.4555      2.3984"/>
</sensor>
<!-- Sensor  17-->
<sensor name="LeftFoot_gyro" type="gyroscope">
<parent link="LeftFoot"/>
<origin xyz="0.094314  -0.0015696   -0.013315" rpy="-0.36816     0.44411     0.22503"/>
</sensor>
<sensor name="LeftFoot_accelerometer" type="accelerometer">
<parent link="LeftFoot"/>
<origin xyz="0.094314  -0.0015696   -0.013315" rpy="-0.36816     0.44411     0.22503"/>
</sensor>


</robot>
